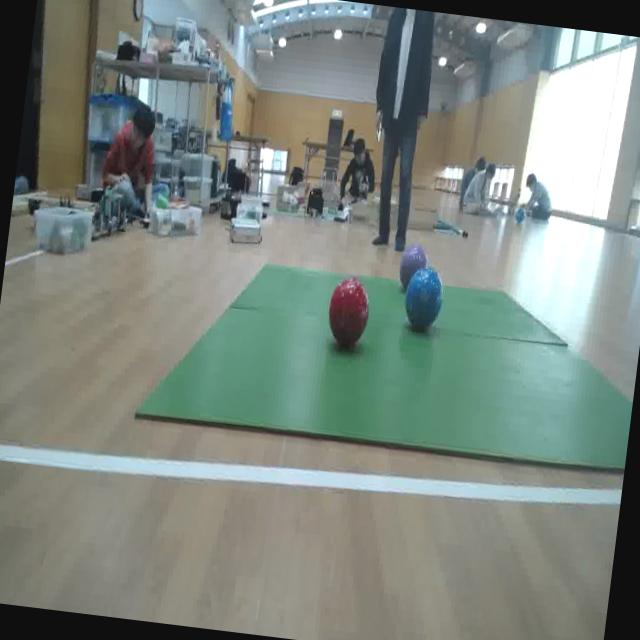blue_ball: (401, 262, 447, 331)
purple_ball: (393, 238, 432, 298)
red_ball: (320, 272, 375, 348)
